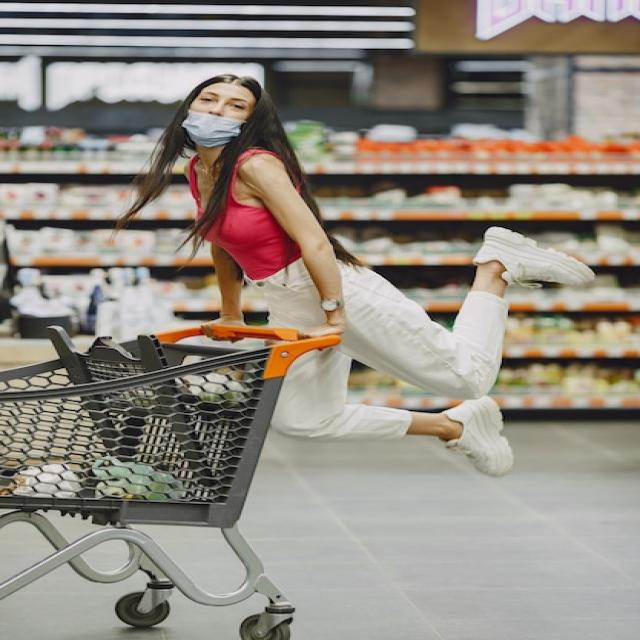Person: (113, 73, 597, 478)
